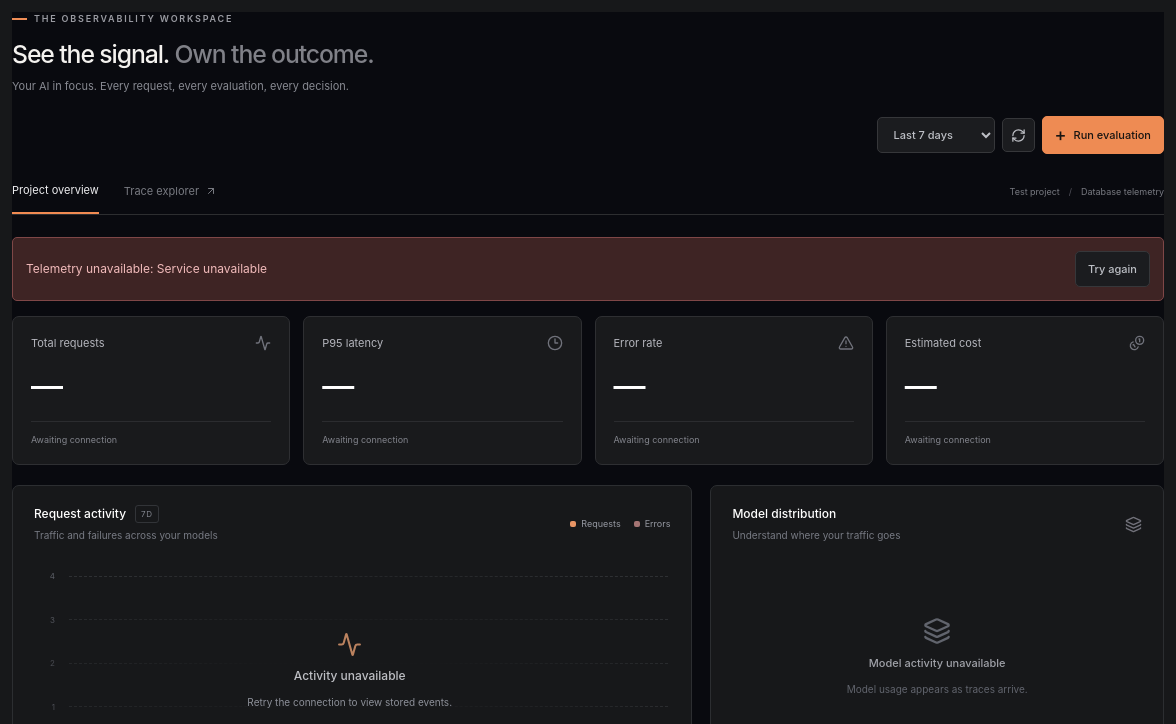
Test: Dashboard telemetry › does not disguise a failed API request as an empty project, and supports retry
Expected: the message shows "Service unavailable", [157,261,267,276]
Expected: the text "Your next request starts the story" is not shown
Click the button "Try again".
click(1112, 269)  # box [1075,250,1150,287]
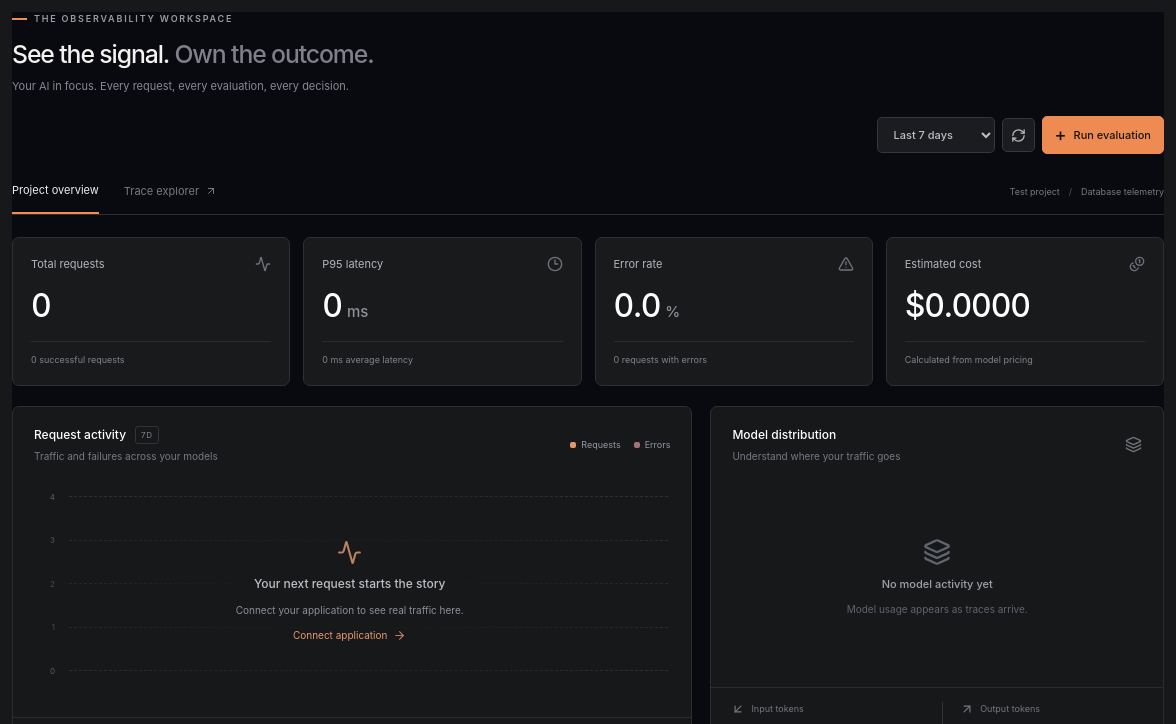
Expected: the text "Your next request starts the story" is shown, [254,575,446,593]
Expected: the message "Telemetry unavailable: Service unavailable Try again" is gone
